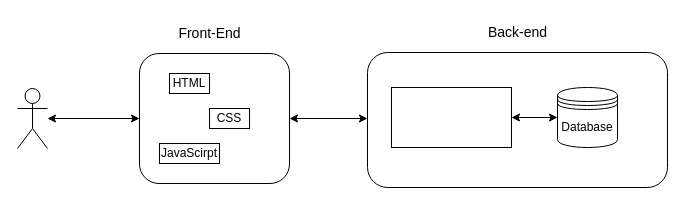
Image size: 685x205. Some labels were removed from this diagram. The shapes that lost their labels are listed below. From the top down, each one's box as (x1, y1, x2, y2) in pixels, then its label:
(16, 88, 48, 148): Actor
(390, 86, 512, 148): Backend language application
